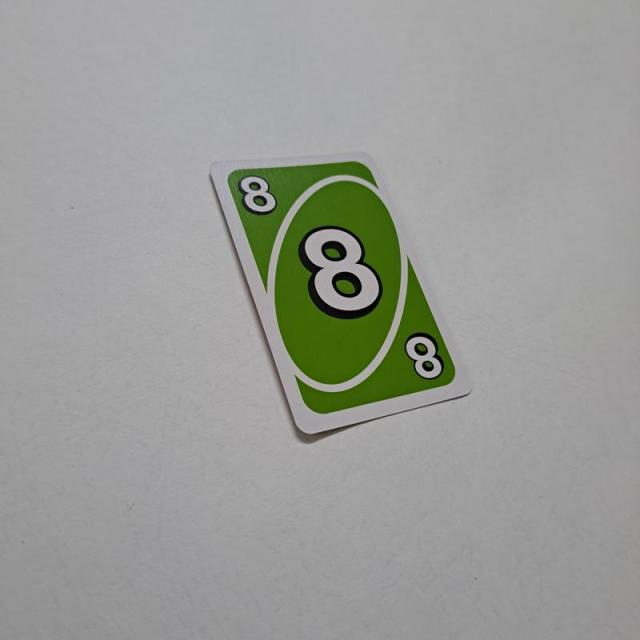Green_Card: (222, 158, 462, 418)
Number_8: (234, 171, 282, 219)
